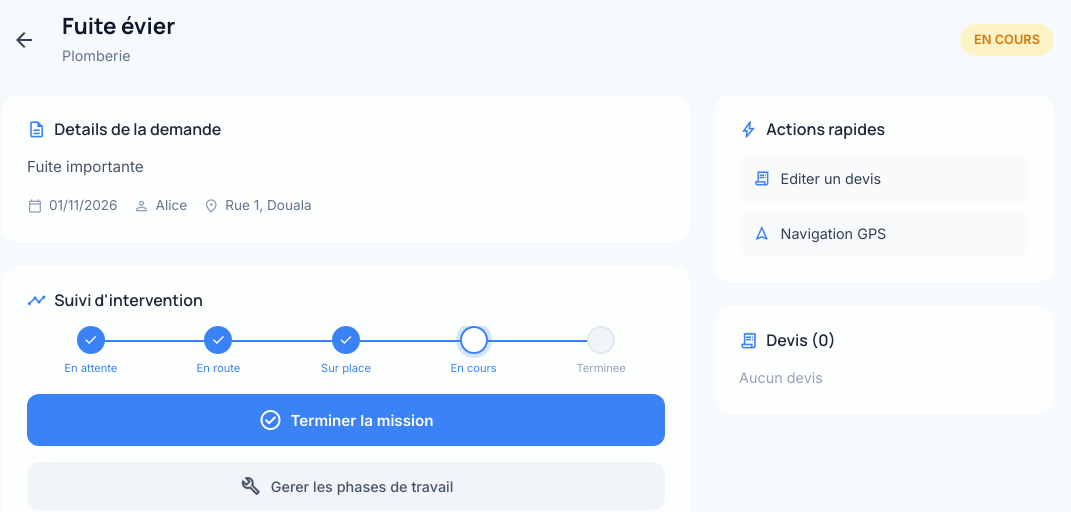
MissionDetail › depuis « in_progress », l'action « Terminer la mission » demande le statut « completed »
What coordinates should you click on to do the following:
click the button "Terminer la mission"
I would click on:
 (346, 420)
Its box is [27,394,665,446].
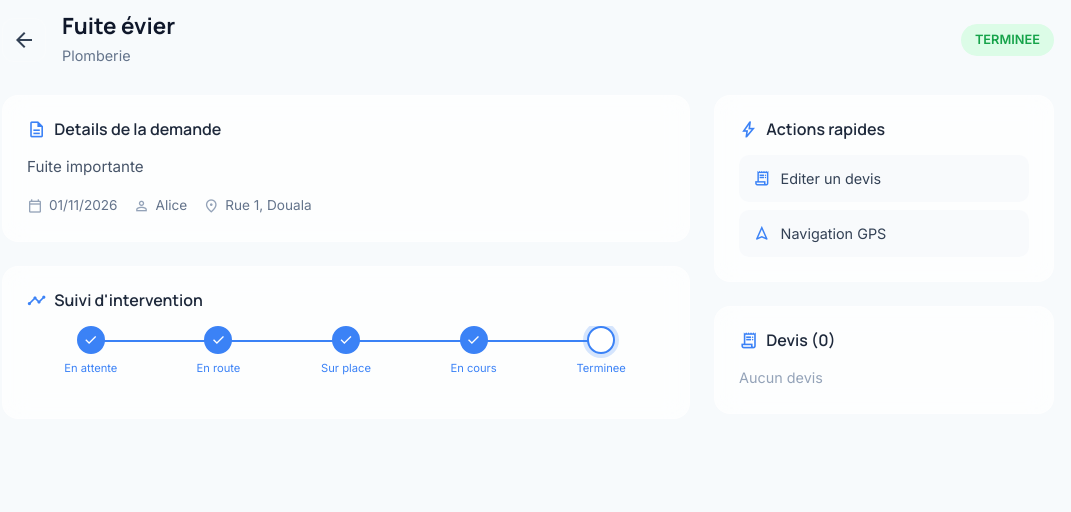
Expected: the text with class "md-status-pill" reads "Terminee", [975,32,1040,47]
